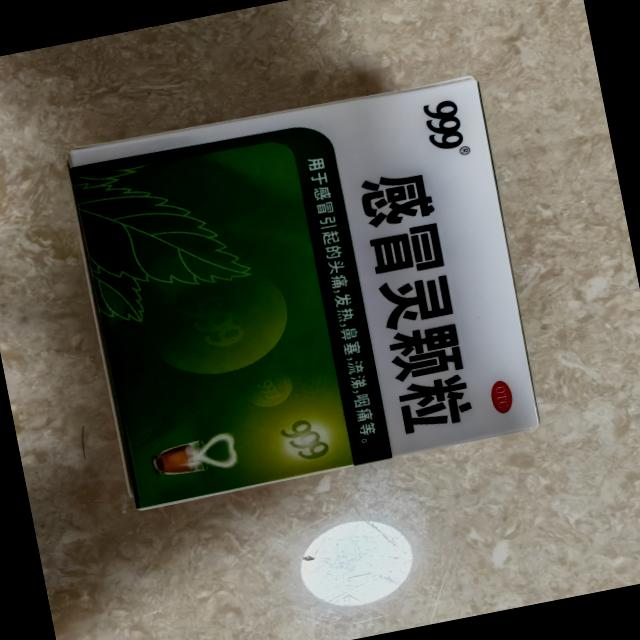box: (44, 60, 556, 523)
